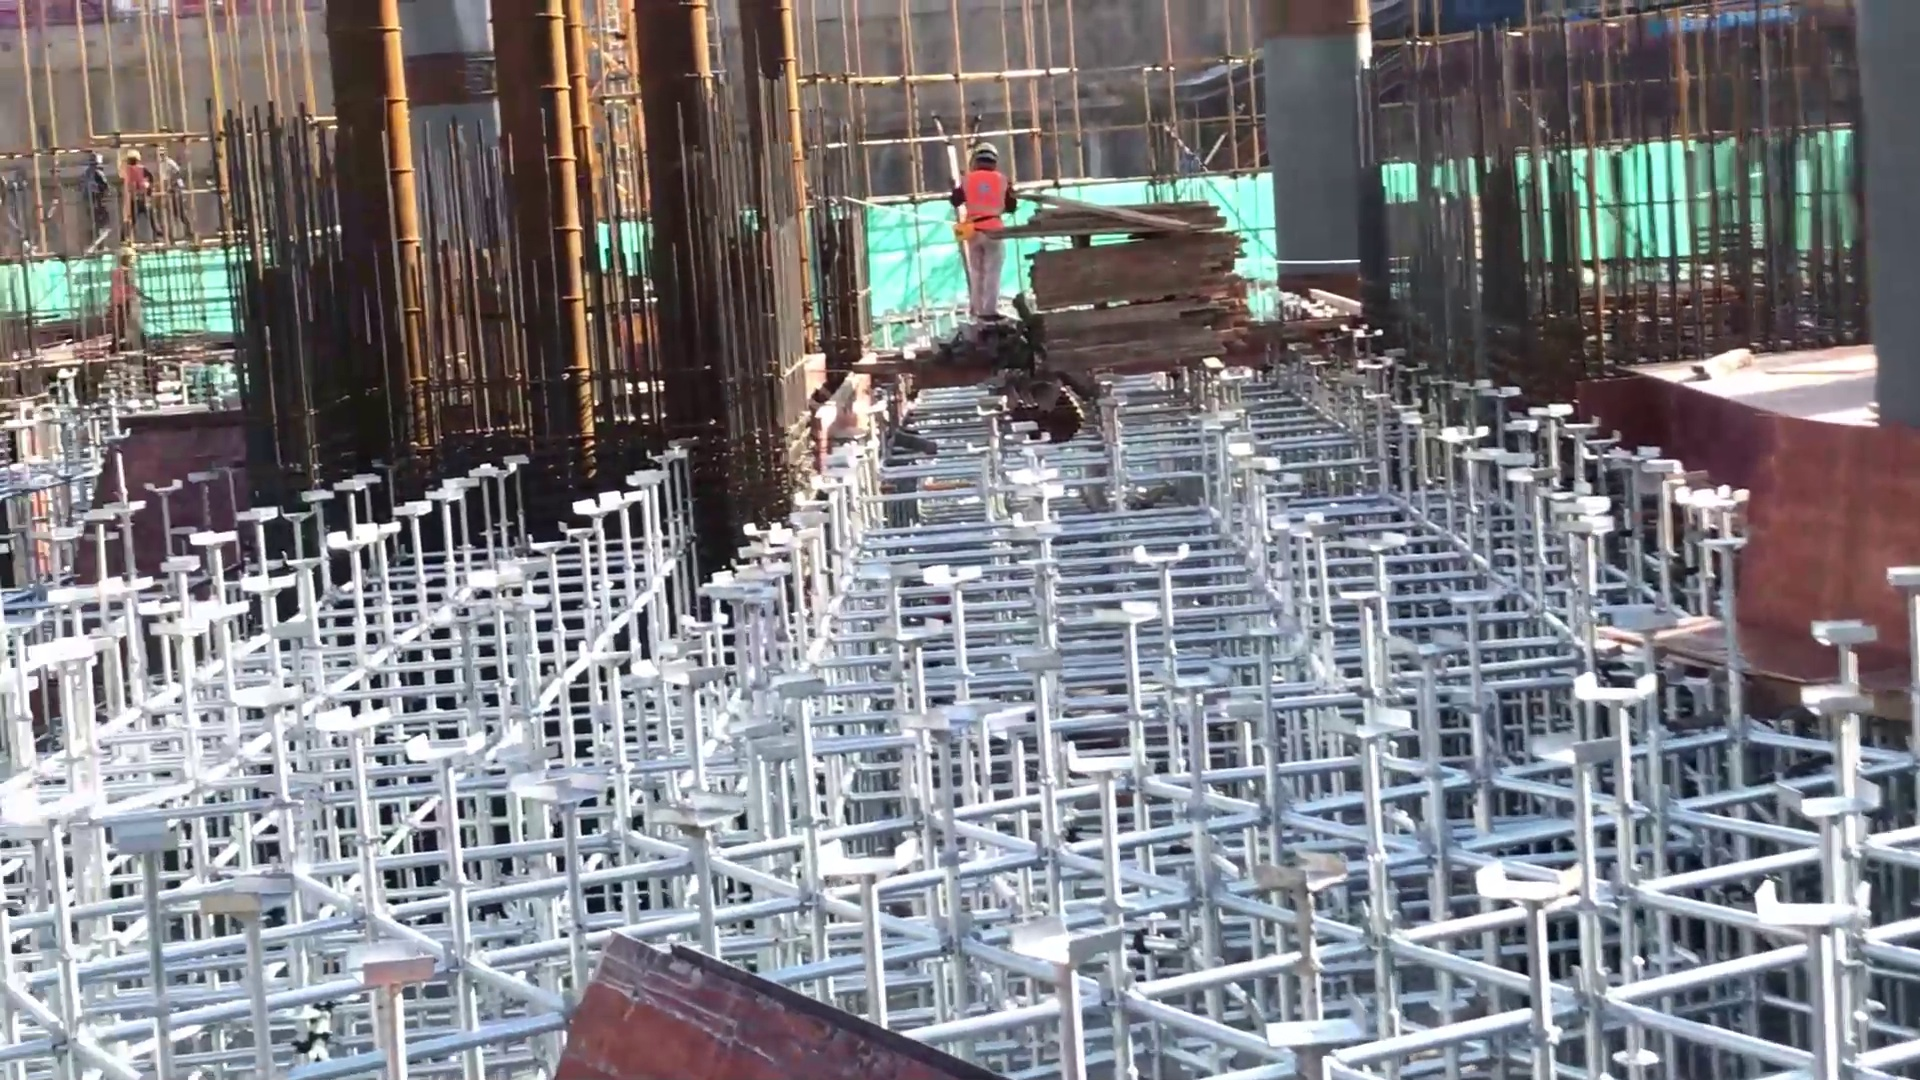vest: (956, 161, 1002, 218)
wood: (986, 165, 1296, 381)
